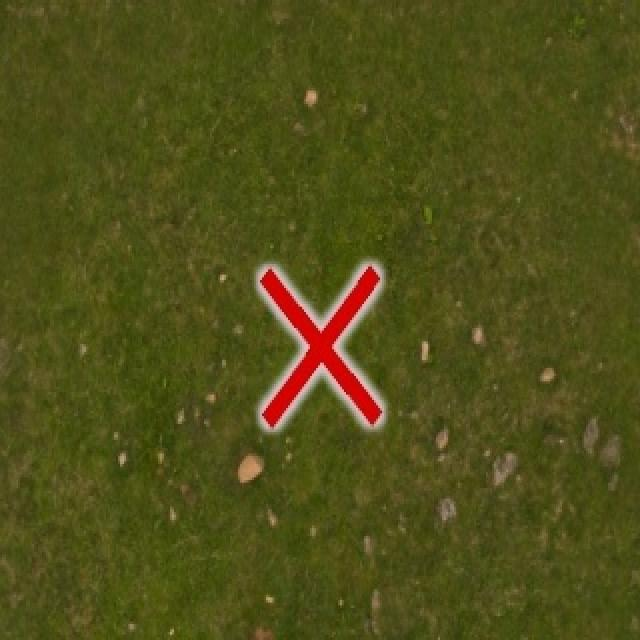x_marker: (259, 266, 381, 426)
